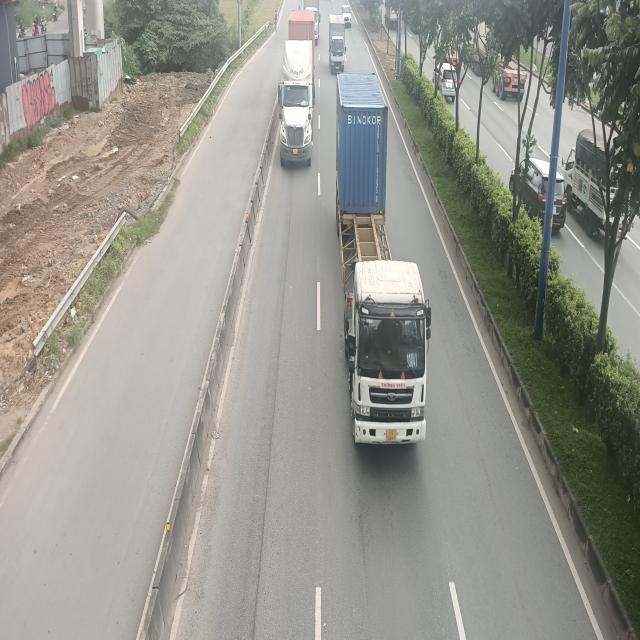car: (341, 4, 352, 27)
container: (335, 72, 433, 452), (276, 12, 316, 164)
truck: (329, 15, 346, 73)
